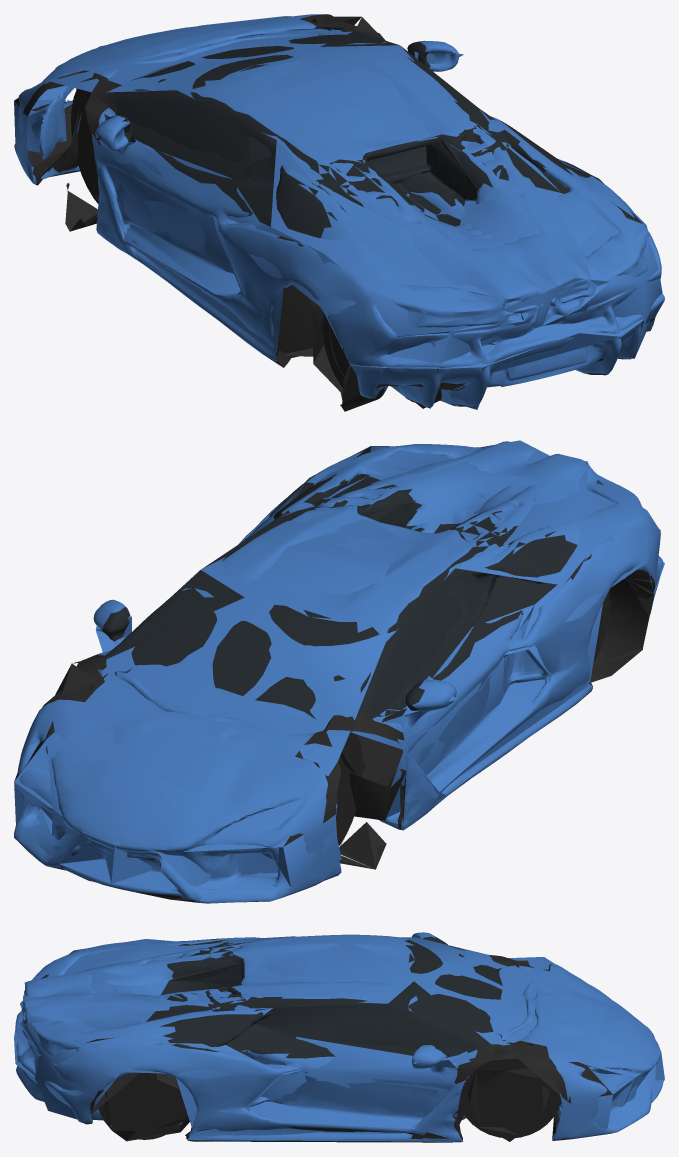
The model's file is lamborghini-revuelto.glb.
The picture shows the model from 3 angles, top to bottom: view 1: azimuth 30°, elevation 25°; view 2: azimuth 150°, elevation 25°; view 3: azimuth 270°, elevation 25°; orthographic projection. The views are drawn at different scales.
Parts seen in each view (by area): view 1: body, far; view 2: body, far; view 3: body, far.
Part boxes in pixels (bbox=[...]): body: bbox=[14, 14, 664, 411]; far: bbox=[14, 16, 662, 409]; body: bbox=[14, 441, 662, 903]; far: bbox=[14, 440, 664, 889]; body: bbox=[15, 932, 663, 1142]; far: bbox=[14, 935, 664, 1141].
Size of the model in its own units: 2.37 by 1.2 by 5.03.
